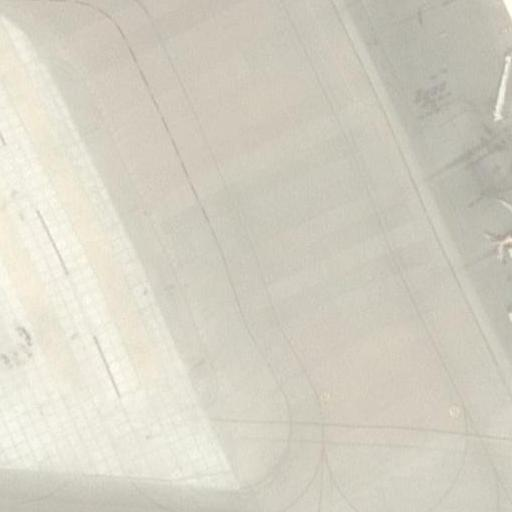Aircraft: (482, 196, 512, 270)
